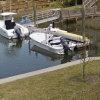Boat: (1, 4, 86, 65)
